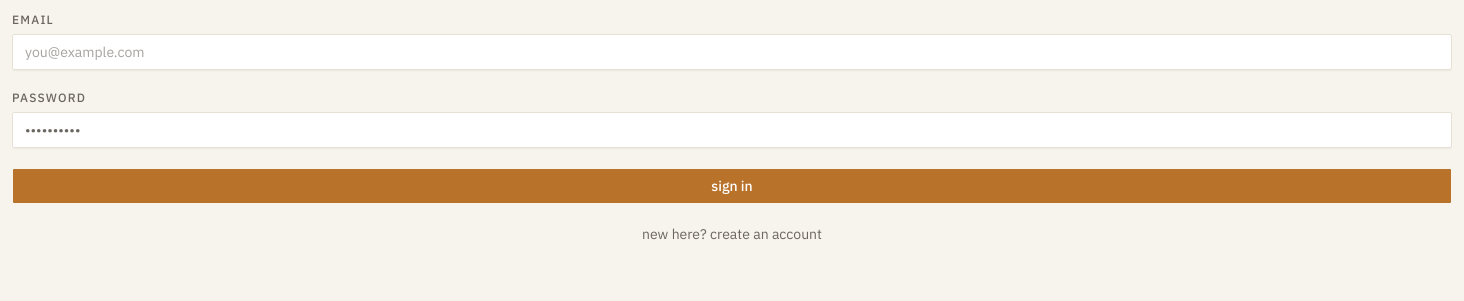
Test case: LoginForm › shows a client-side validation error for empty email on submit
The width and height of the screenshot is (1464, 301).
Click the button with test id "login-submit" at (732, 186), box [12,168,1452,204]
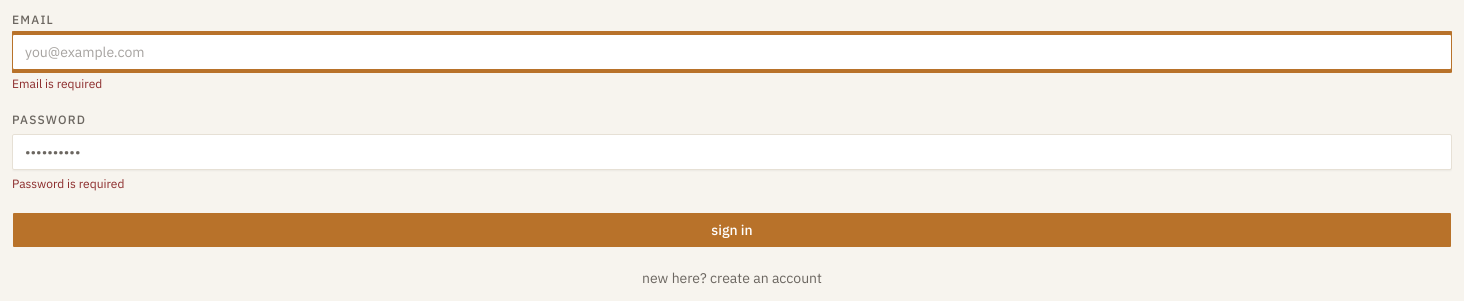
Expected: the text "Email is required" is shown, [12,76,102,91]
